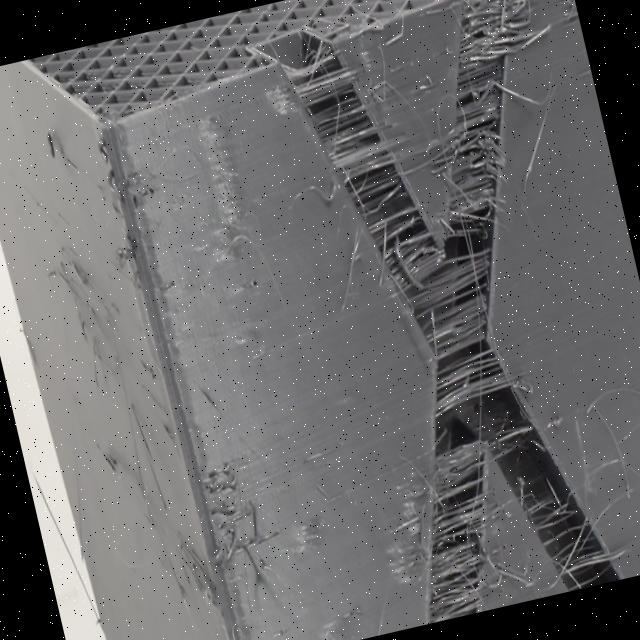stringing: (279, 42, 442, 312), (415, 0, 566, 235), (391, 440, 515, 623), (394, 282, 526, 424), (506, 464, 620, 598)
